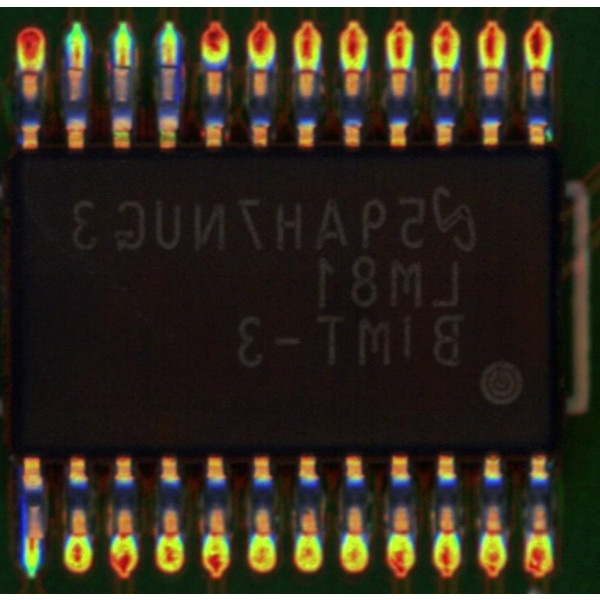Bad_podu: (69, 45, 82, 80), (161, 51, 175, 78), (115, 49, 127, 78), (26, 526, 38, 554), (22, 62, 37, 84)
